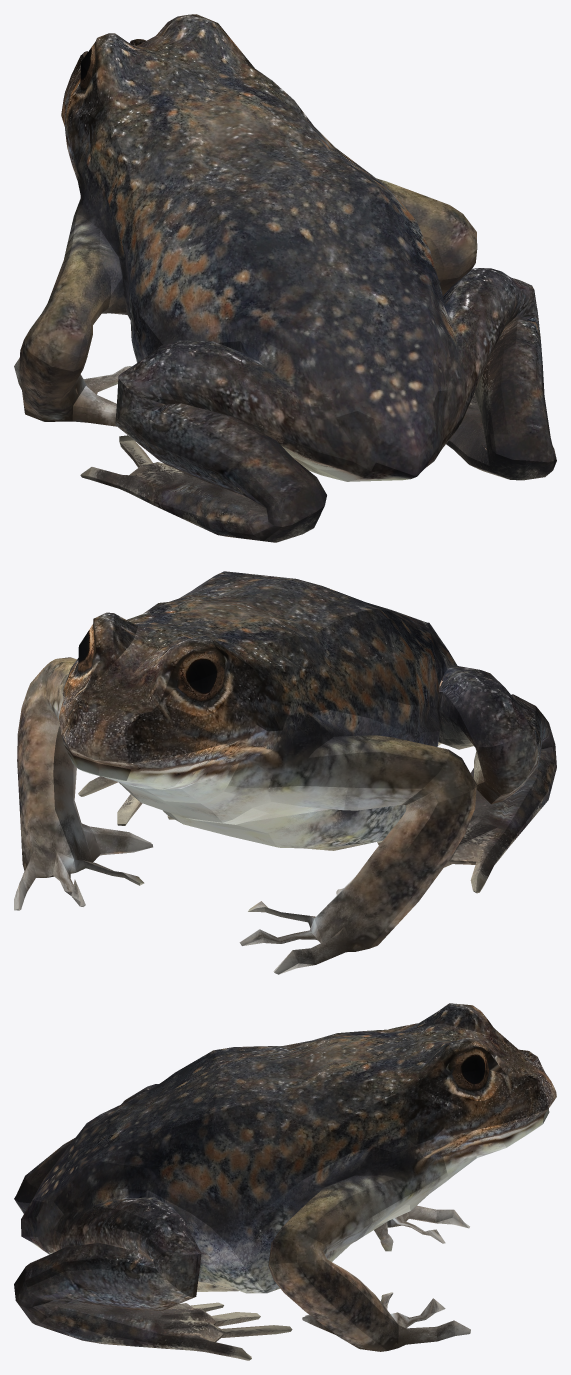
Rendered from Frog.fbx.
3 views of the same model, one above another, from view 1: azimuth 30°, elevation 25°; view 2: azimuth 150°, elevation 25°; view 3: azimuth 270°, elevation 25° (orthographic). The views are drawn at different scales.
Visible parts, largest first — view 1: Frog; view 2: Frog; view 3: Frog.
Part boxes in pixels (left/top/right/bottom): Frog: left=14, top=14, right=556, bottom=542; Frog: left=14, top=571, right=556, bottom=974; Frog: left=14, top=1003, right=556, bottom=1360.
Bounding box in the file's own units: 0.1409 × 0.0943 × 0.1787.
Materials: 1 (1 with a texture image).
